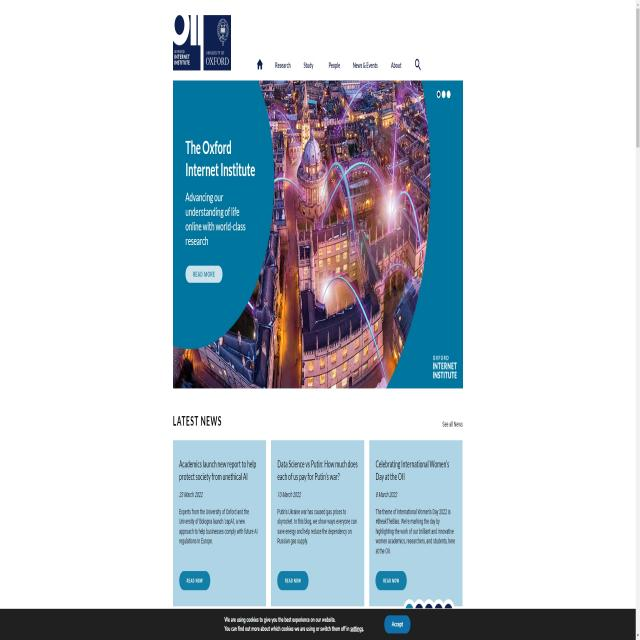menu-bar: (253, 49, 422, 78)
